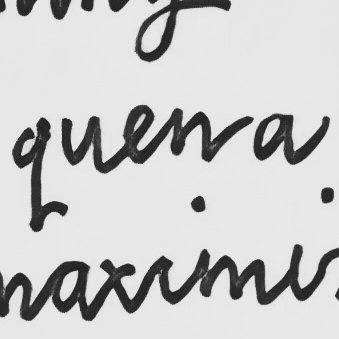a: (250, 110, 297, 164)
e: (119, 103, 159, 166)
n: (167, 105, 214, 164)
q: (10, 114, 54, 233)
u: (59, 113, 107, 169)
